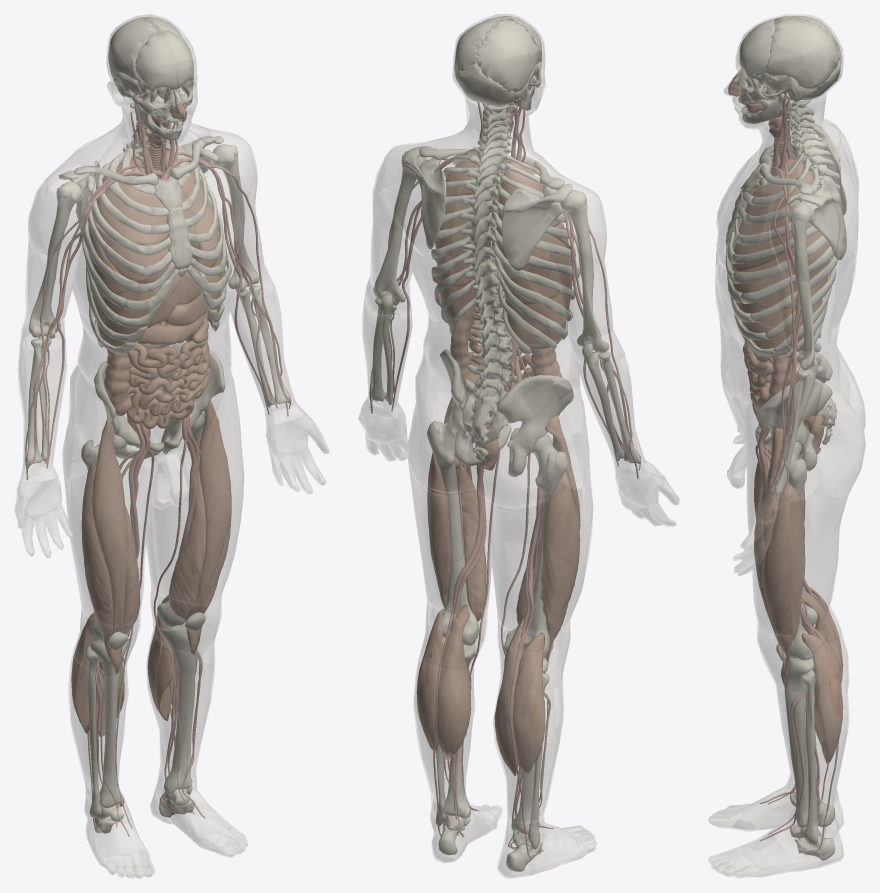
Rendered from heart-and-lungs.glb.
3 views of the same model, side by side, from view 1: azimuth 30°, elevation 25°; view 2: azimuth 150°, elevation 25°; view 3: azimuth 270°, elevation 25° (orthographic). The views are drawn at different scales.
Parts seen in each view (by area): view 1: skin-outline, skin-wire, skeleton, ribcage, leg-muscles.r, leg-muscles.l, vessels-back, small-intestine, vessels-out, lung-right, large-intestine, lung-left (+3 smaller); view 2: skin-outline, skin-wire, skeleton, leg-muscles.r, leg-muscles.l, ribcage, vessels-back, vessels-out, lung-right, large-intestine, diaphragm, lung-left (+1 smaller); view 3: skin-outline, skin-wire, skeleton, leg-muscles.l, ribcage, lung-left, vessels-back, vessels-out, leg-muscles.r, diaphragm, small-intestine, large-intestine.
Part boxes in pixels (bbox=[...]): skin-outline: bbox=[15, 14, 329, 878]; skin-wire: bbox=[15, 15, 327, 877]; skeleton: bbox=[25, 16, 290, 833]; ribcage: bbox=[82, 141, 231, 353]; leg-muscles.r: bbox=[71, 418, 140, 736]; leg-muscles.l: bbox=[147, 400, 231, 720]; vessels-back: bbox=[25, 112, 290, 828]; small-intestine: bbox=[126, 318, 211, 428]; vessels-out: bbox=[26, 96, 291, 836]; lung-right: bbox=[88, 158, 170, 297]; large-intestine: bbox=[104, 309, 210, 448]; lung-left: bbox=[159, 149, 225, 276]; skin-outline: bbox=[358, 14, 679, 878]; skin-wire: bbox=[359, 14, 678, 875]; skeleton: bbox=[371, 16, 641, 871]; leg-muscles.r: bbox=[494, 415, 580, 775]; leg-muscles.l: bbox=[416, 397, 486, 759]; ribcage: bbox=[431, 149, 580, 353]; vessels-back: bbox=[369, 100, 638, 858]; vessels-out: bbox=[371, 99, 641, 848]; lung-right: bbox=[496, 161, 572, 304]; large-intestine: bbox=[450, 305, 562, 470]; diaphragm: bbox=[438, 279, 572, 350]; lung-left: bbox=[435, 153, 478, 286]; skin-outline: bbox=[708, 14, 865, 878]; skin-wire: bbox=[709, 16, 864, 877]; skeleton: bbox=[732, 16, 846, 860]; leg-muscles.l: bbox=[754, 428, 843, 763]; ribcage: bbox=[725, 143, 837, 358]; lung-left: bbox=[732, 159, 829, 308]; vessels-back: bbox=[755, 96, 839, 852]; vessels-out: bbox=[758, 94, 819, 841]; leg-muscles.r: bbox=[754, 449, 843, 684]; diaphragm: bbox=[732, 241, 821, 355]; small-intestine: bbox=[743, 341, 773, 416]; large-intestine: bbox=[768, 355, 824, 454].
Size of the model in its own units: 0.6794 by 1.71 by 0.2948.
